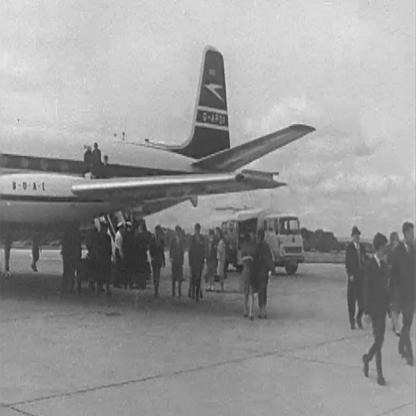CIV_Plane: (6, 41, 316, 300)
